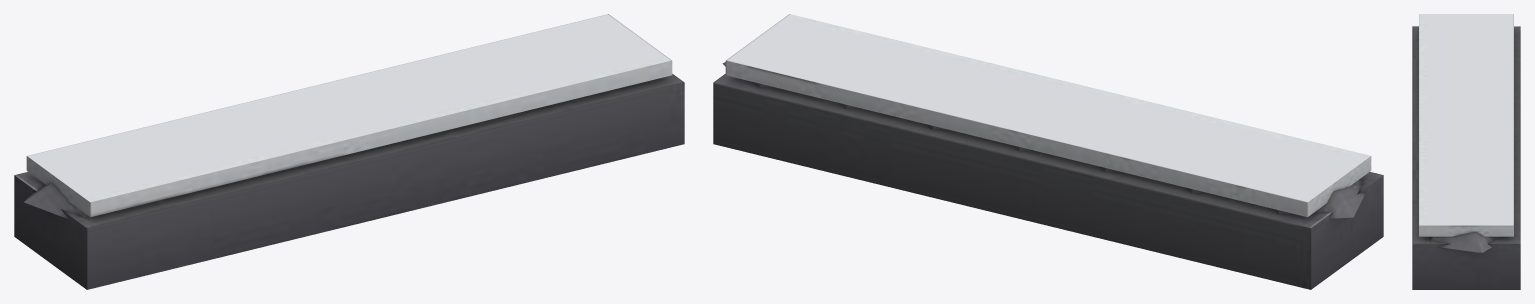
The model's file is cresta_nevada.glb.
3 renders of one model, left to right at view 1: azimuth 30°, elevation 25°; view 2: azimuth 150°, elevation 25°; view 3: azimuth 270°, elevation 25°, orthographic. The views are drawn at different scales.
Visible parts, largest first — view 1: cresta_nevada; view 2: cresta_nevada; view 3: cresta_nevada.
Boxes of the visible parts, box(x1,y1,x2,y2) form: cresta_nevada: box(14, 14, 684, 289); cresta_nevada: box(713, 14, 1383, 289); cresta_nevada: box(1412, 14, 1520, 289).
Size of the model in its own units: 8.03 by 1 by 1.6.
1 material, 1 textured.
